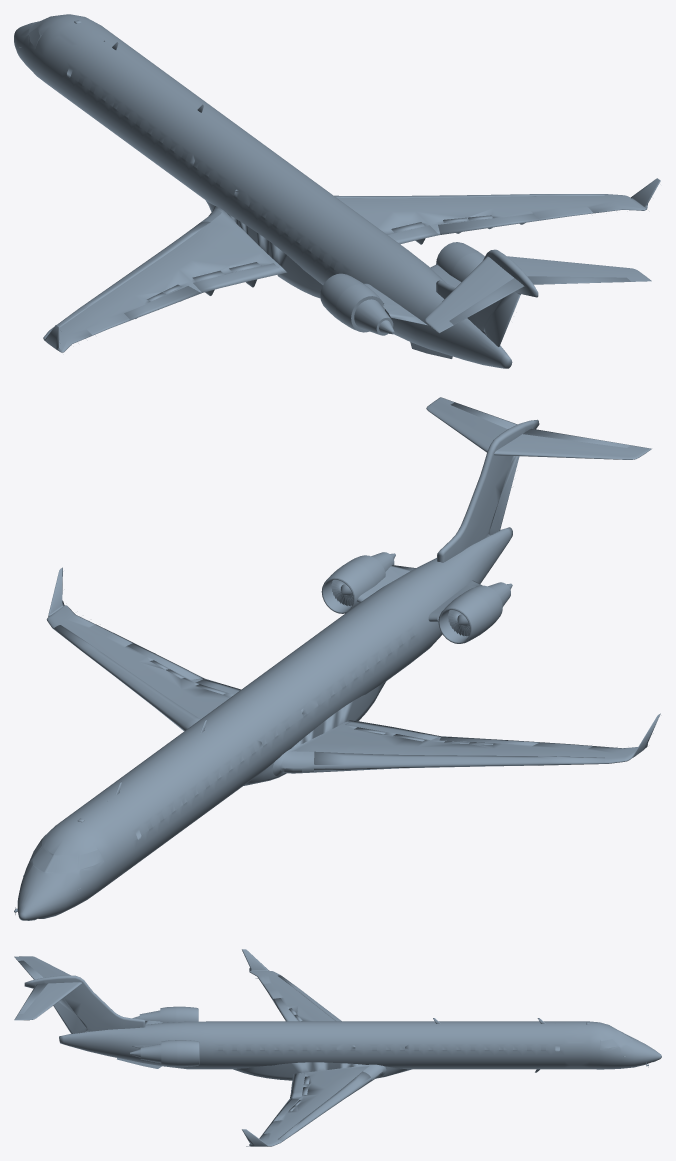
The model's file is CRJ900.glb.
3 renders of one model, top to bottom at view 1: azimuth 30°, elevation 25°; view 2: azimuth 150°, elevation 25°; view 3: azimuth 270°, elevation 25°, orthographic. The views are drawn at different scales.
Size of the model in its own units: 23.91 by 6.09 by 36.36.
